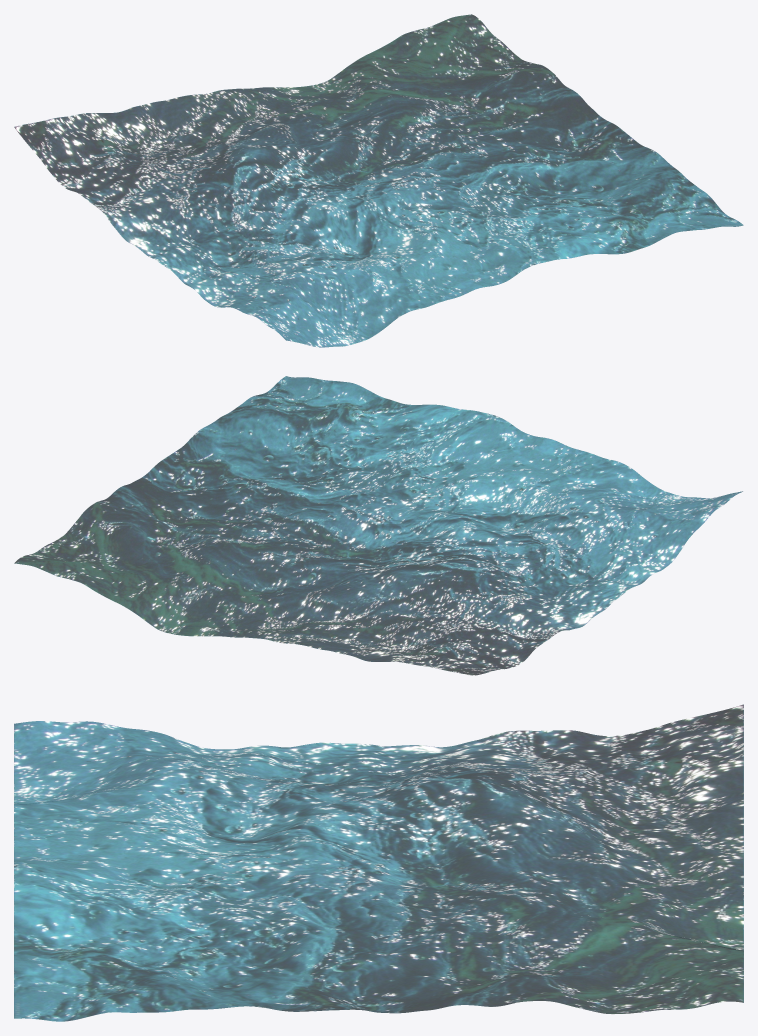
Rendered from sea_wave_crest_01_mesh_107k.glb.
The picture shows the model from 3 angles, top to bottom: view 1: azimuth 30°, elevation 25°; view 2: azimuth 150°, elevation 25°; view 3: azimuth 270°, elevation 25°; orthographic projection. The views are drawn at different scales.
Visible parts, largest first — view 1: Plane001; view 2: Plane001; view 3: Plane001.
Boxes of the visible parts, x1,y1,x2,y2 form: Plane001: (14, 14, 743, 347); Plane001: (14, 376, 742, 675); Plane001: (14, 704, 743, 1021).
Size of the model in its own units: 28.45 by 2.29 by 29.29.
1 material, 1 textured.
